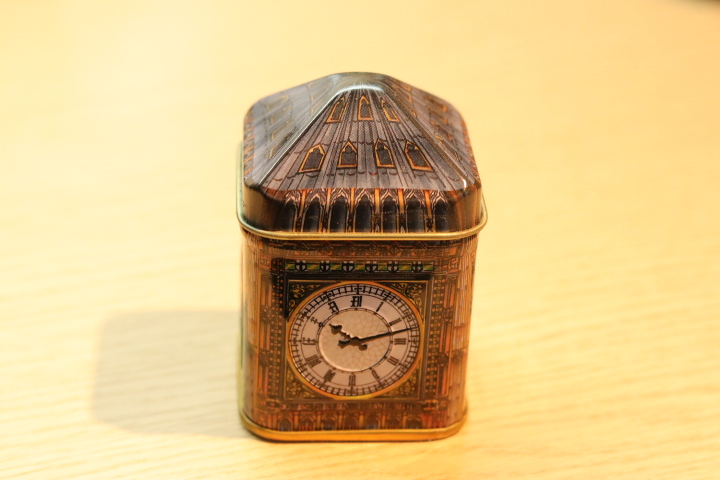Big Ben: (217, 57, 510, 460)
